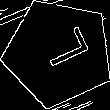L_SW: (29, 28, 88, 77)
